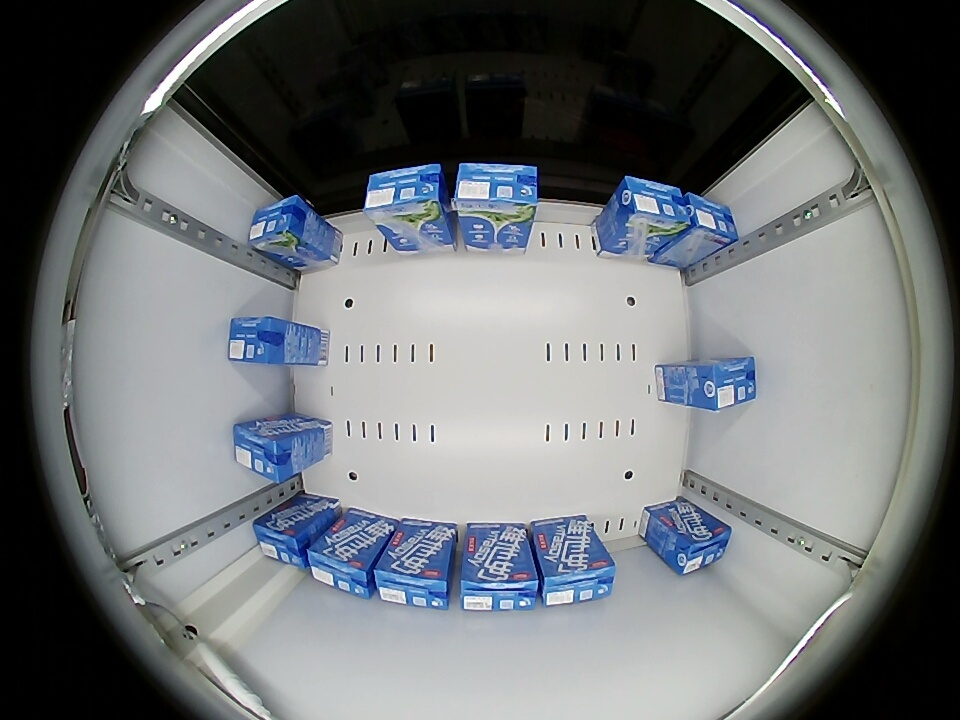weitanai: (453, 162, 540, 220), (364, 164, 446, 224), (611, 176, 690, 235), (373, 553, 452, 610), (460, 558, 540, 612), (541, 550, 617, 606), (307, 538, 375, 600), (233, 419, 297, 484), (664, 516, 732, 575), (248, 194, 312, 254), (691, 357, 758, 410), (254, 513, 312, 570), (459, 211, 534, 254), (227, 316, 289, 365), (683, 192, 739, 246)
